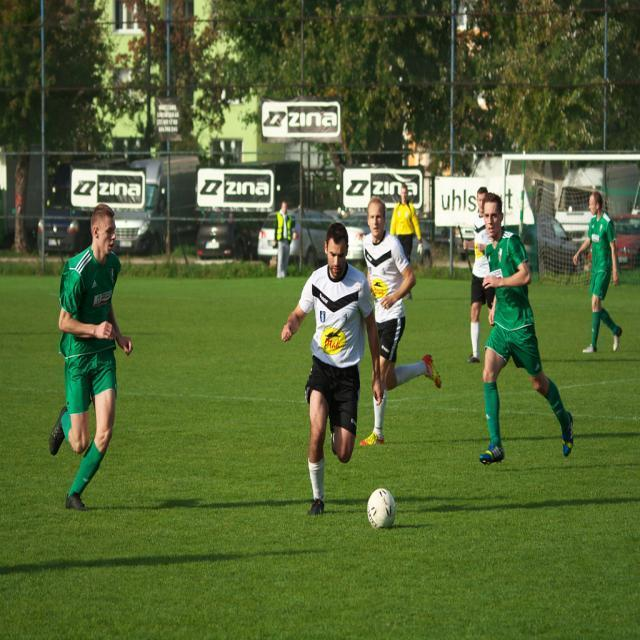football: (351, 480, 410, 536)
